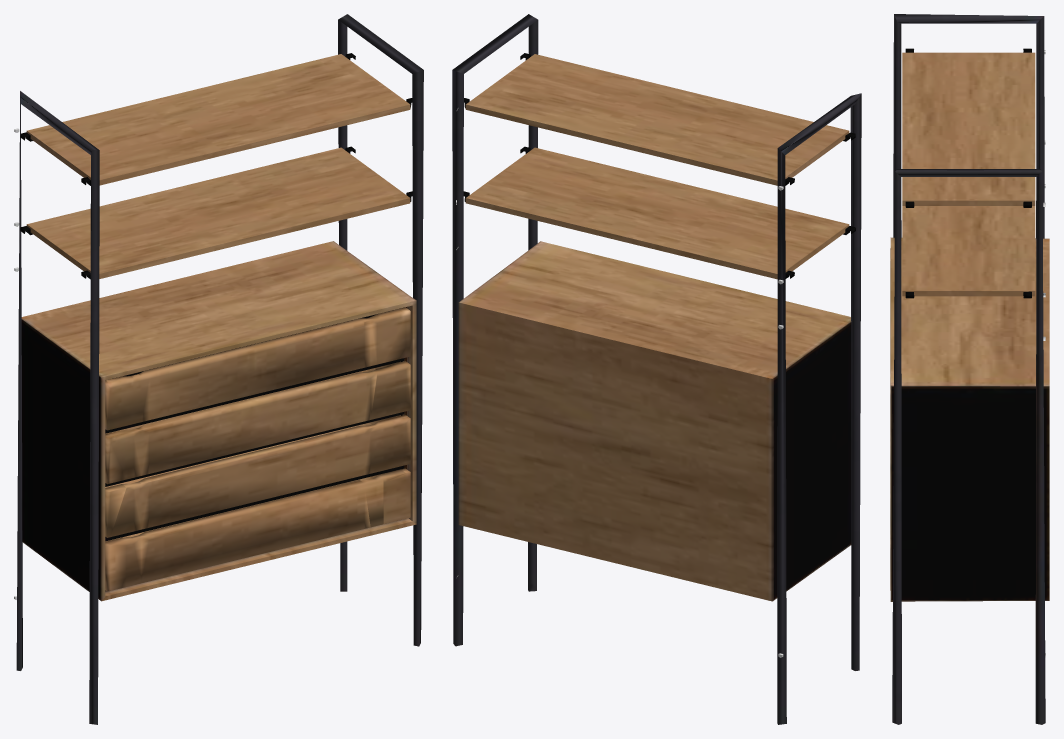
Rendered from drawer_cabinet.glb.
3 renders of one model, left to right at view 1: azimuth 30°, elevation 25°; view 2: azimuth 150°, elevation 25°; view 3: azimuth 270°, elevation 25°, orthographic. The views are drawn at different scales.
Parts seen in each view (by area): view 1: drawer_cabinet; view 2: drawer_cabinet; view 3: drawer_cabinet.
Part boxes in pixels (box(x1,y1,x2,y2)): drawer_cabinet: box(14, 14, 423, 724); drawer_cabinet: box(452, 14, 861, 724); drawer_cabinet: box(890, 14, 1049, 724).
Bounding box in the file's own units: 1.13 × 1.88 × 0.4881.
1 material, 1 textured.
